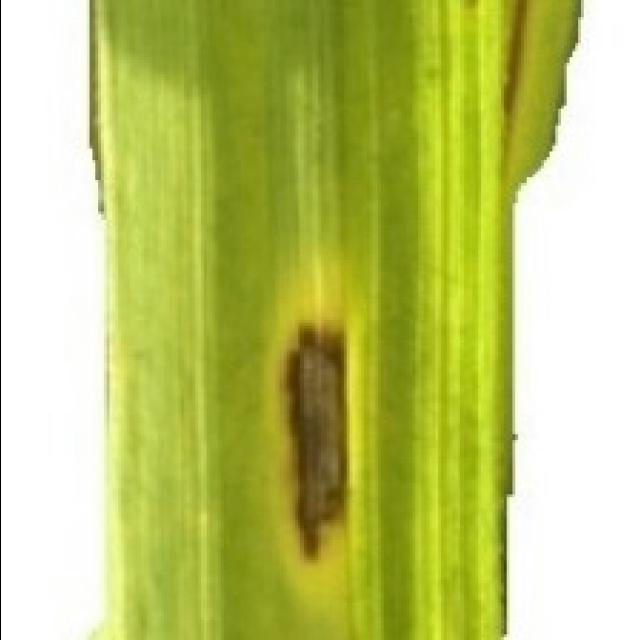Healthy: (267, 283, 367, 595)
